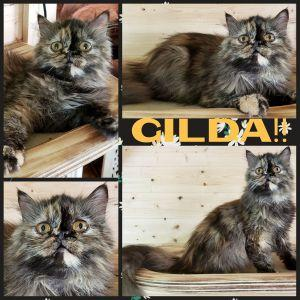persian: (30, 7, 120, 97)
